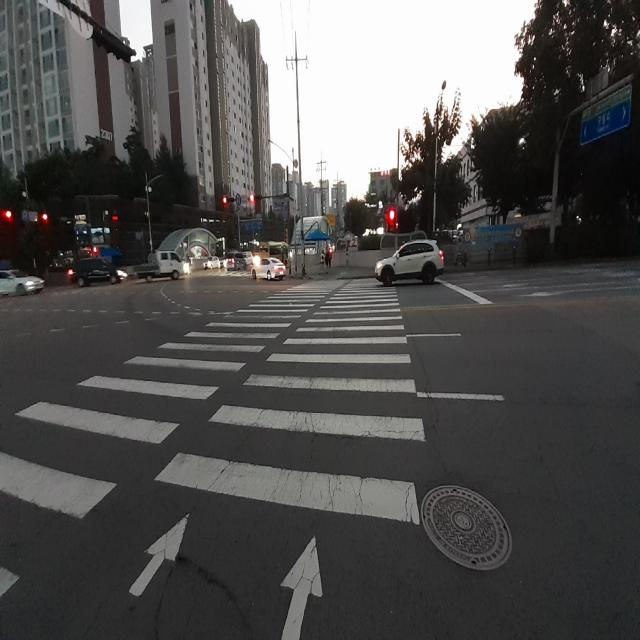빨간불: (388, 208, 394, 231)
횡단보도: (0, 276, 427, 640)
